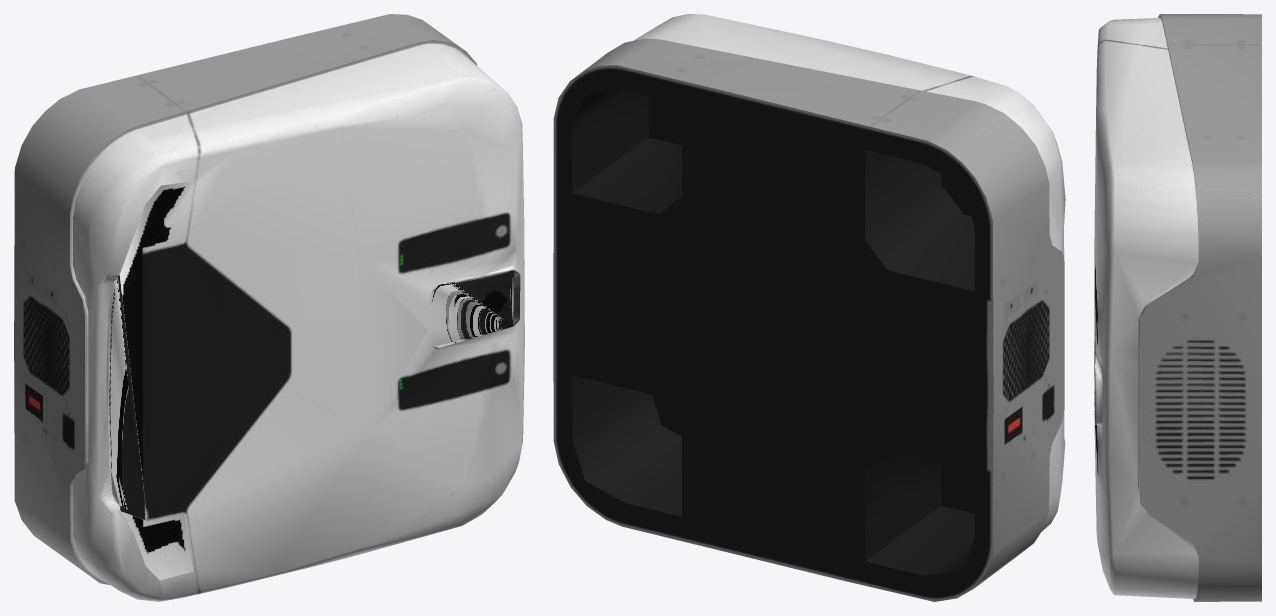
File: demo.obj
3 renders of one model, left to right at view 1: azimuth 30°, elevation 25°; view 2: azimuth 150°, elevation 25°; view 3: azimuth 270°, elevation 25°, orthographic. The views are drawn at different scales.
Visible parts, largest first — view 1: Mesh0; view 2: Mesh0; view 3: Mesh0.
Boxes of the visible parts, box(x1,y1,x2,y2) form: Mesh0: box(14, 14, 524, 601); Mesh0: box(553, 14, 1065, 601); Mesh0: box(1094, 14, 1261, 601).
Size of the model in its own units: 0.6671 by 0.6668 by 0.2321.
Materials: 1 (1 with a texture image).
